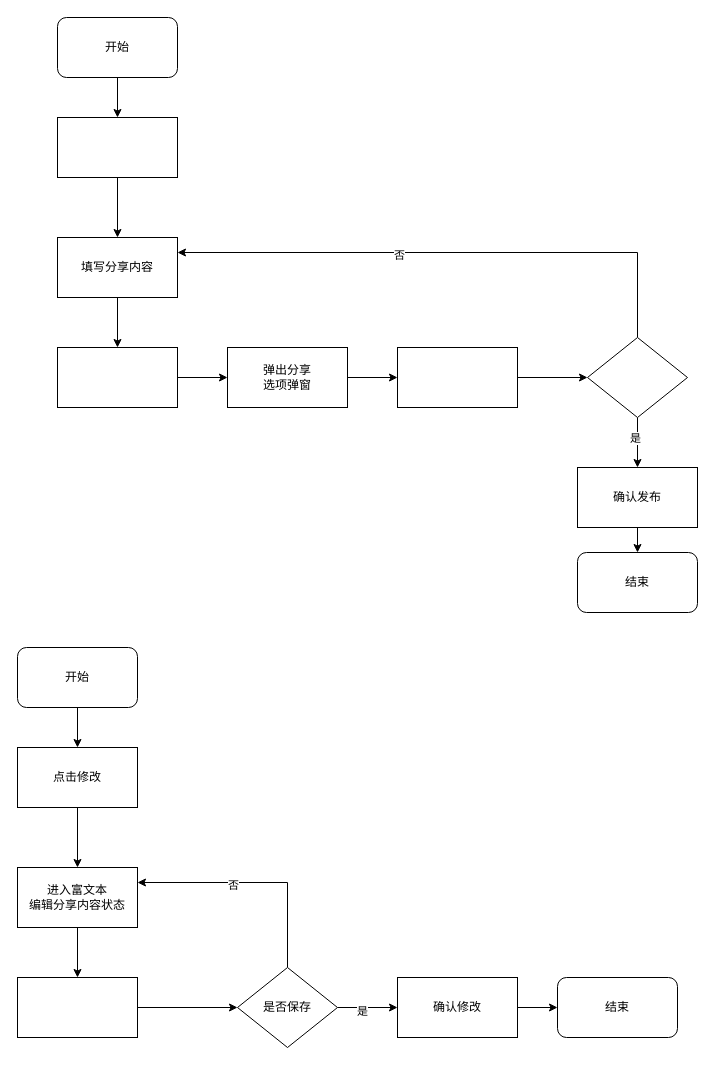
The diagram is 715 pixels wide and 1065 high, and some of its shapes have lost their labels. Here are the shapes that lost their labels. From the top down, the centre of each, then its label:
At (117,147): "进入富文本编辑器".
At (117,377): "选择发布分享".
At (457,377): "填写分享类型、 标签".
At (637,377): "分享是否发布".
At (77,1007): "修改分享内容".
